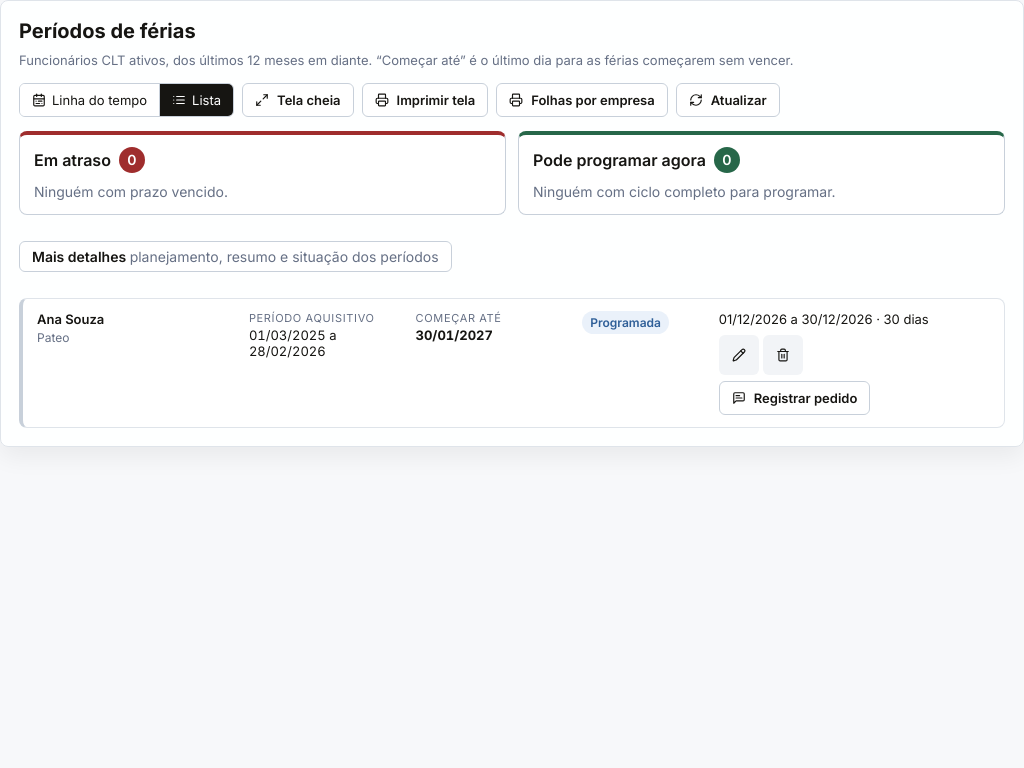
Scenario: Ferias › o filtro vem do endereço e a escolha de outro filtro troca a lista
This screenshot has width=1024, height=768.
Check: the text "01/12/2026 a 30/12/2026 · 30 dias" is shown, box [719,310,929,326]
Step 1. Click the button "Mais detalhes planejamento, resumo e situação dos períodos" → click(235, 256), box [19,240,452,272]
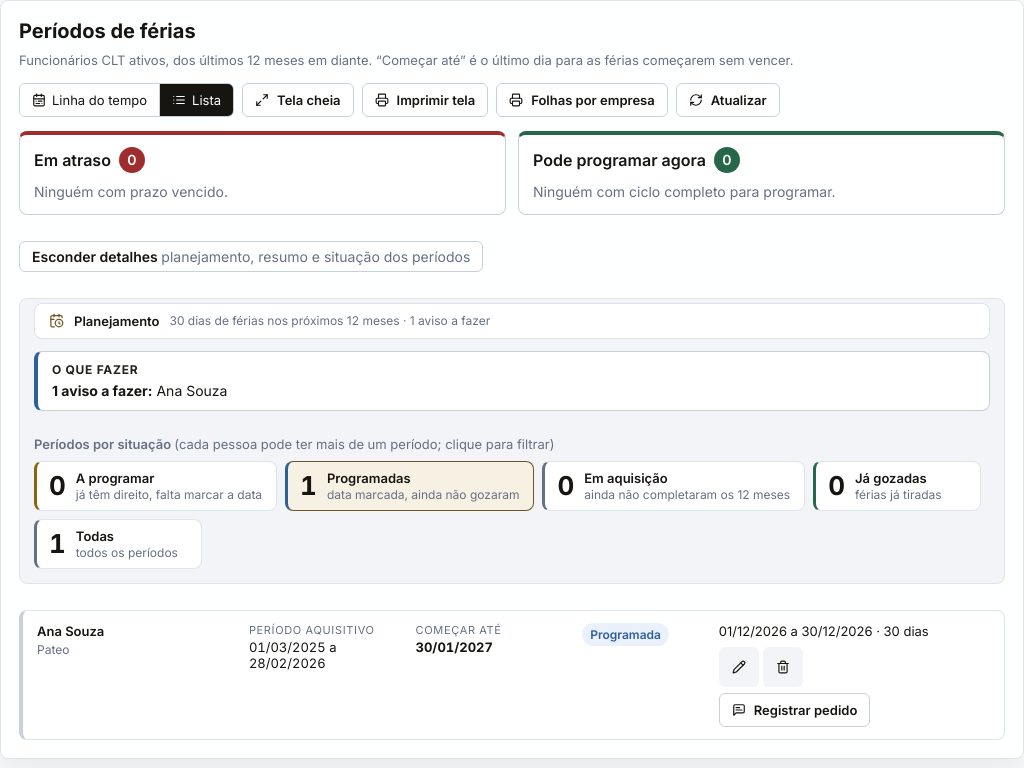
Step 2. Click the button "0 A programar já têm direito, falta marcar a data" → click(156, 486), box [34,461,277,511]
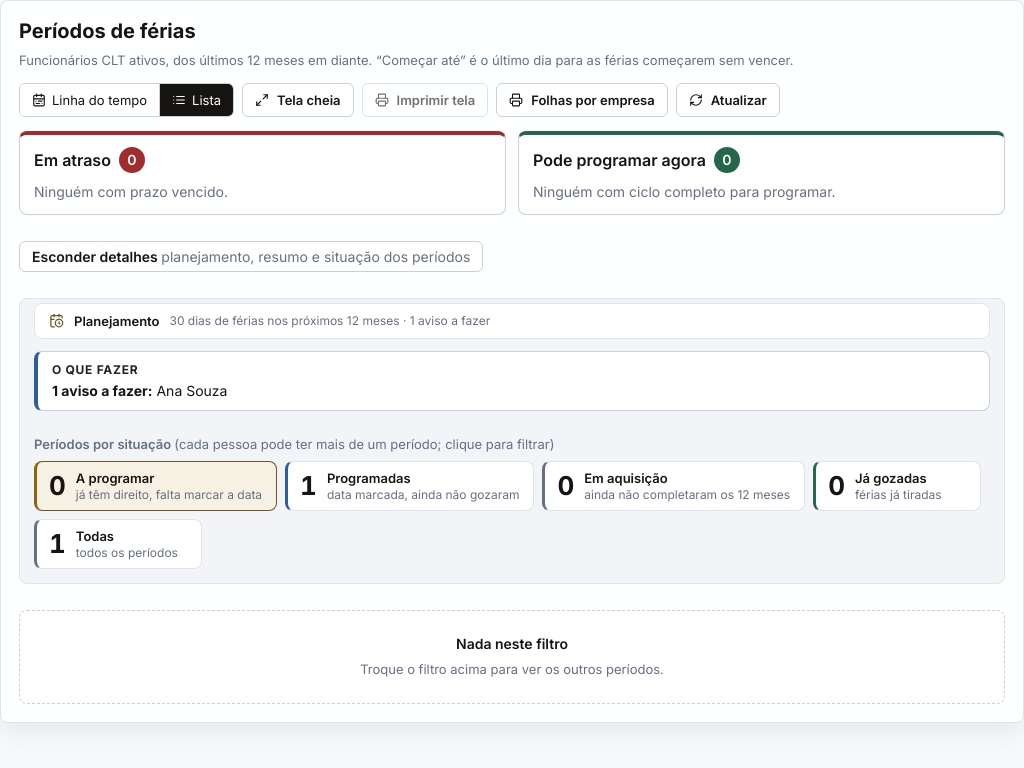
Check: the text "Nada neste filtro" is shown, box [456,635,568,652]
